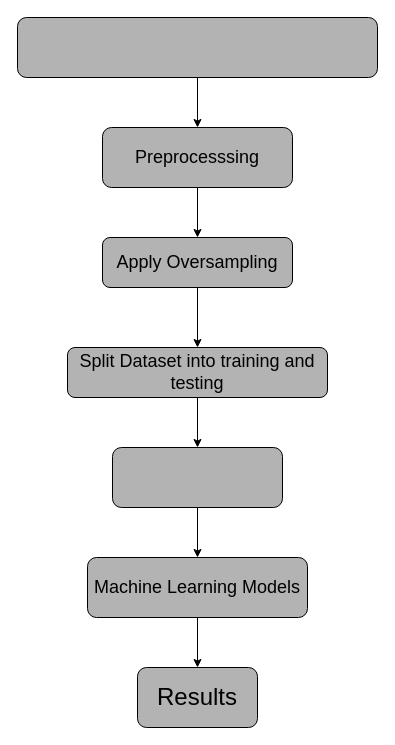
This 395x745 diagram has some shape labels left out. Each missing label, with the centre of its shape:
Apply LDA: point 197,477
Data set with four severity classes: point 197,47
